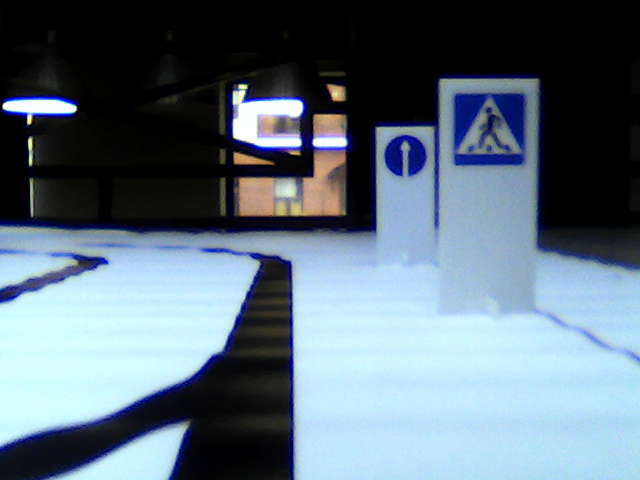forw: (380, 132, 427, 182)
pesh: (453, 89, 526, 163)
